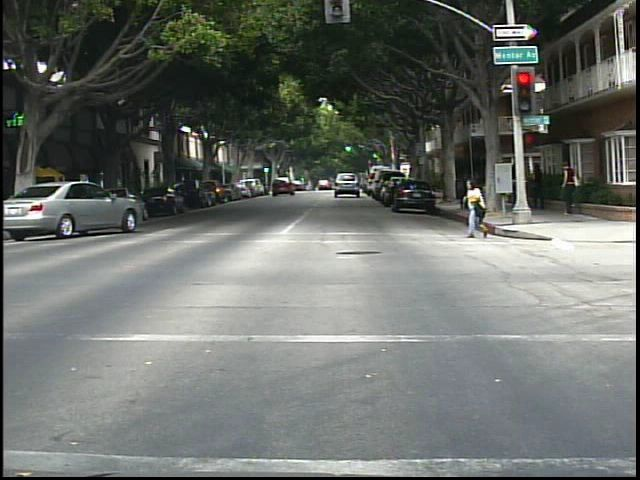person: (459, 175, 494, 243), (557, 155, 586, 216), (531, 158, 554, 216)
